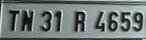1: (54, 9, 62, 33)
3: (40, 8, 53, 34)
4: (93, 10, 107, 33)
5: (120, 9, 132, 34)
6: (108, 9, 119, 33)
9: (133, 9, 144, 33)
N: (21, 8, 34, 33)
R: (74, 8, 87, 33)
T: (7, 8, 21, 32)
